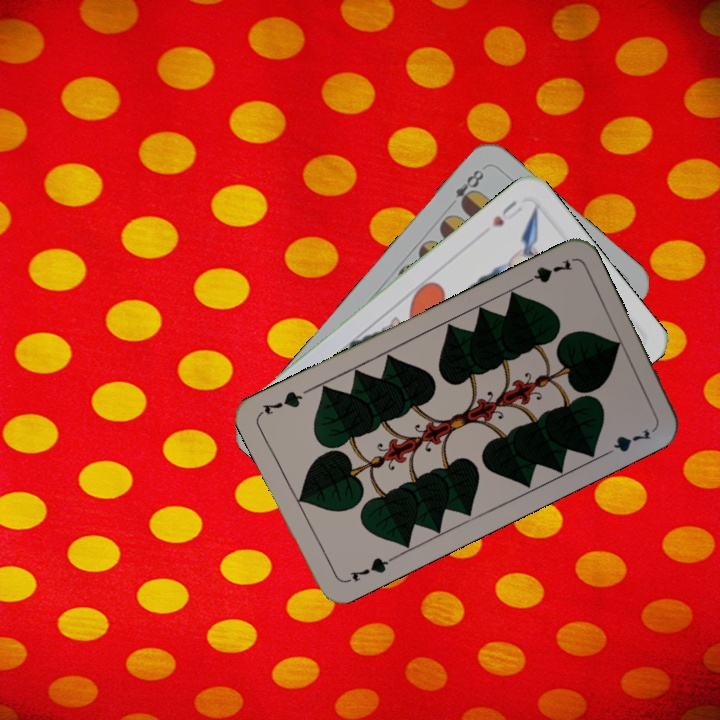E8: (451, 165, 487, 211)
G7: (518, 255, 575, 289), (341, 553, 396, 586)
HU: (487, 195, 525, 230)
